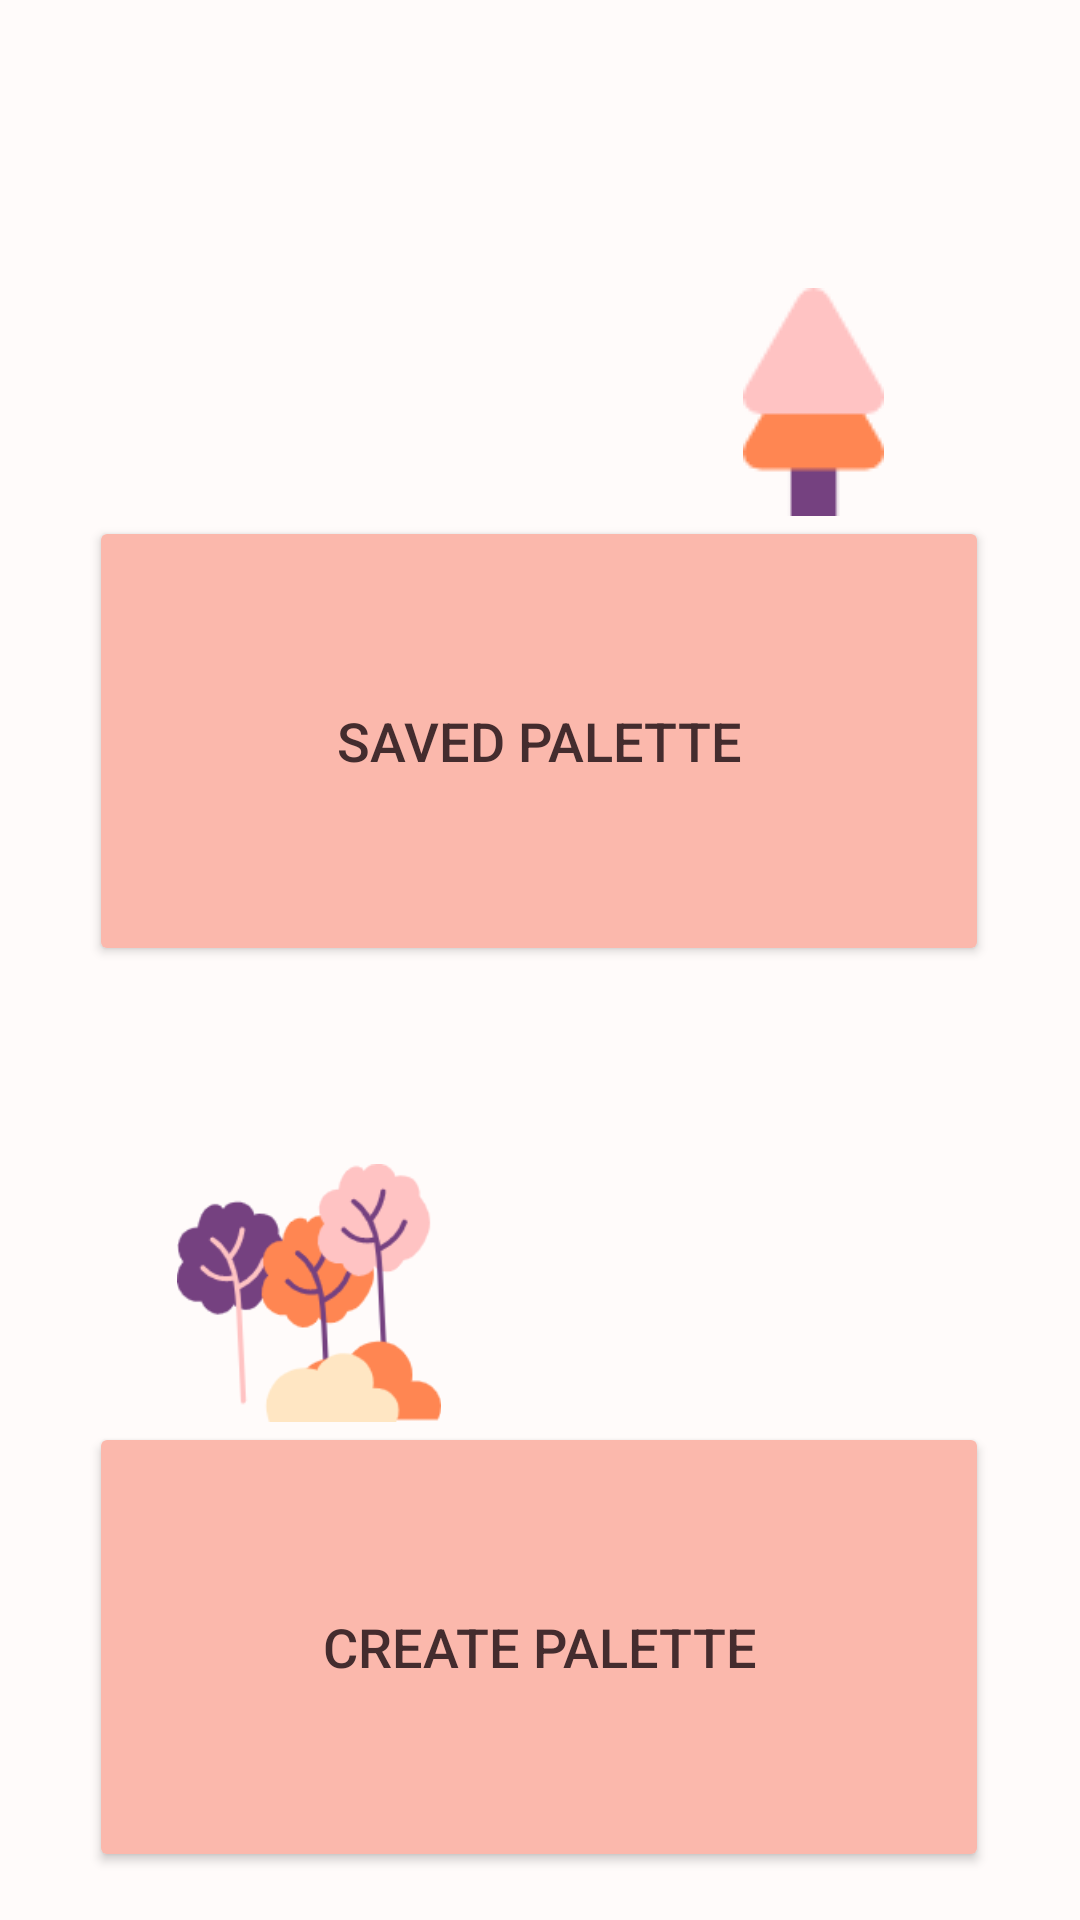

Screen size 1080x1920. Icon name, then its box in pixels as (x1, y1, x2, y2):
pine: (743, 288, 884, 516)
trees: (177, 1164, 441, 1422)
